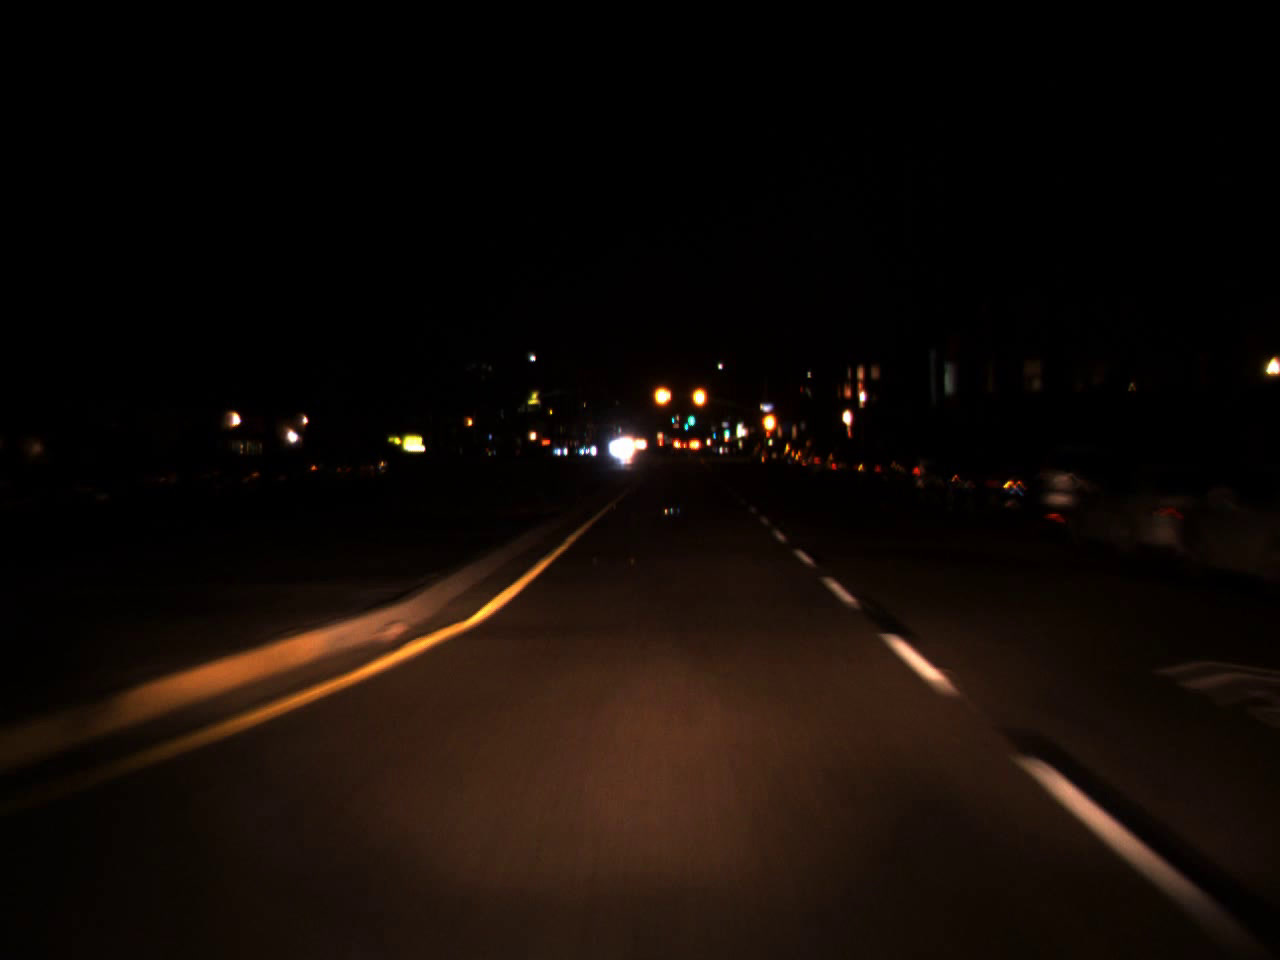go: (685, 402, 695, 429), (723, 423, 730, 435)
warning: (651, 374, 675, 416), (689, 375, 708, 417), (761, 403, 779, 440), (464, 409, 476, 431)
